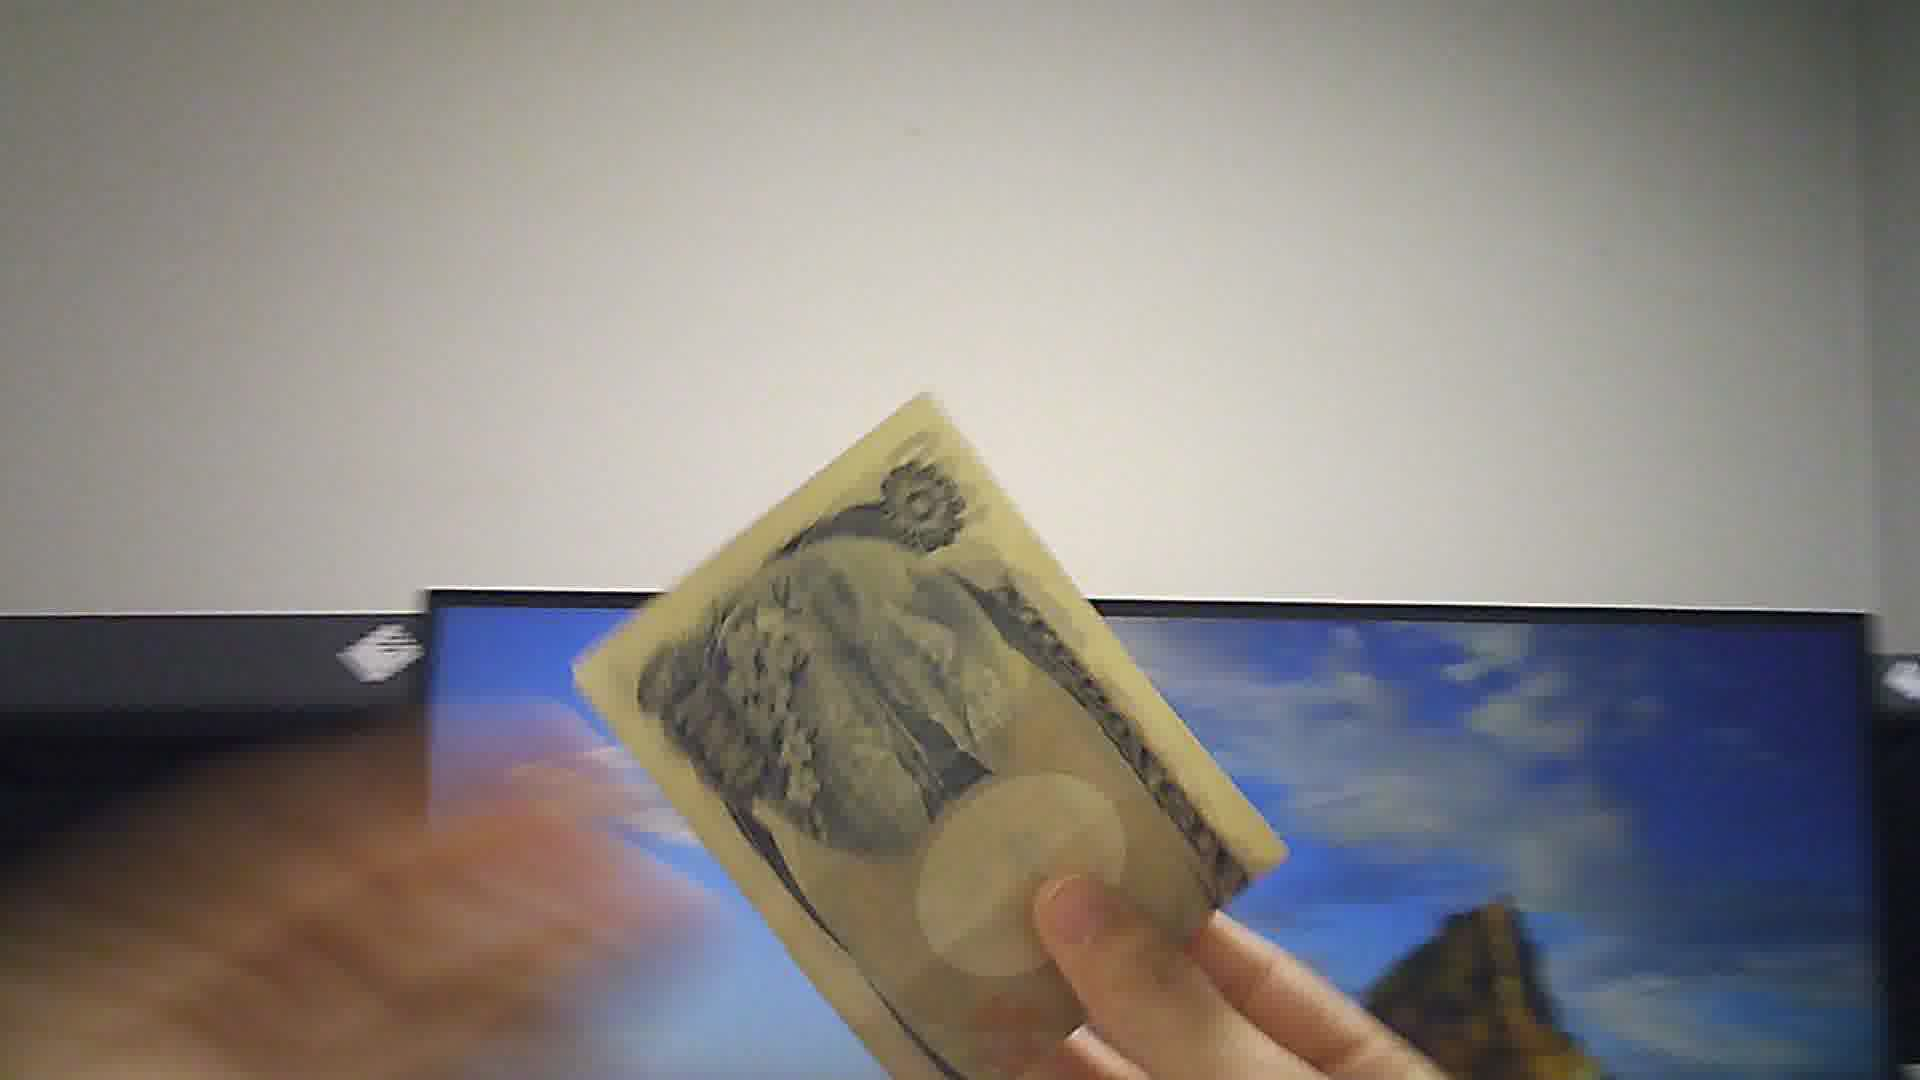1,000 Yen: (585, 375, 1269, 1079)
